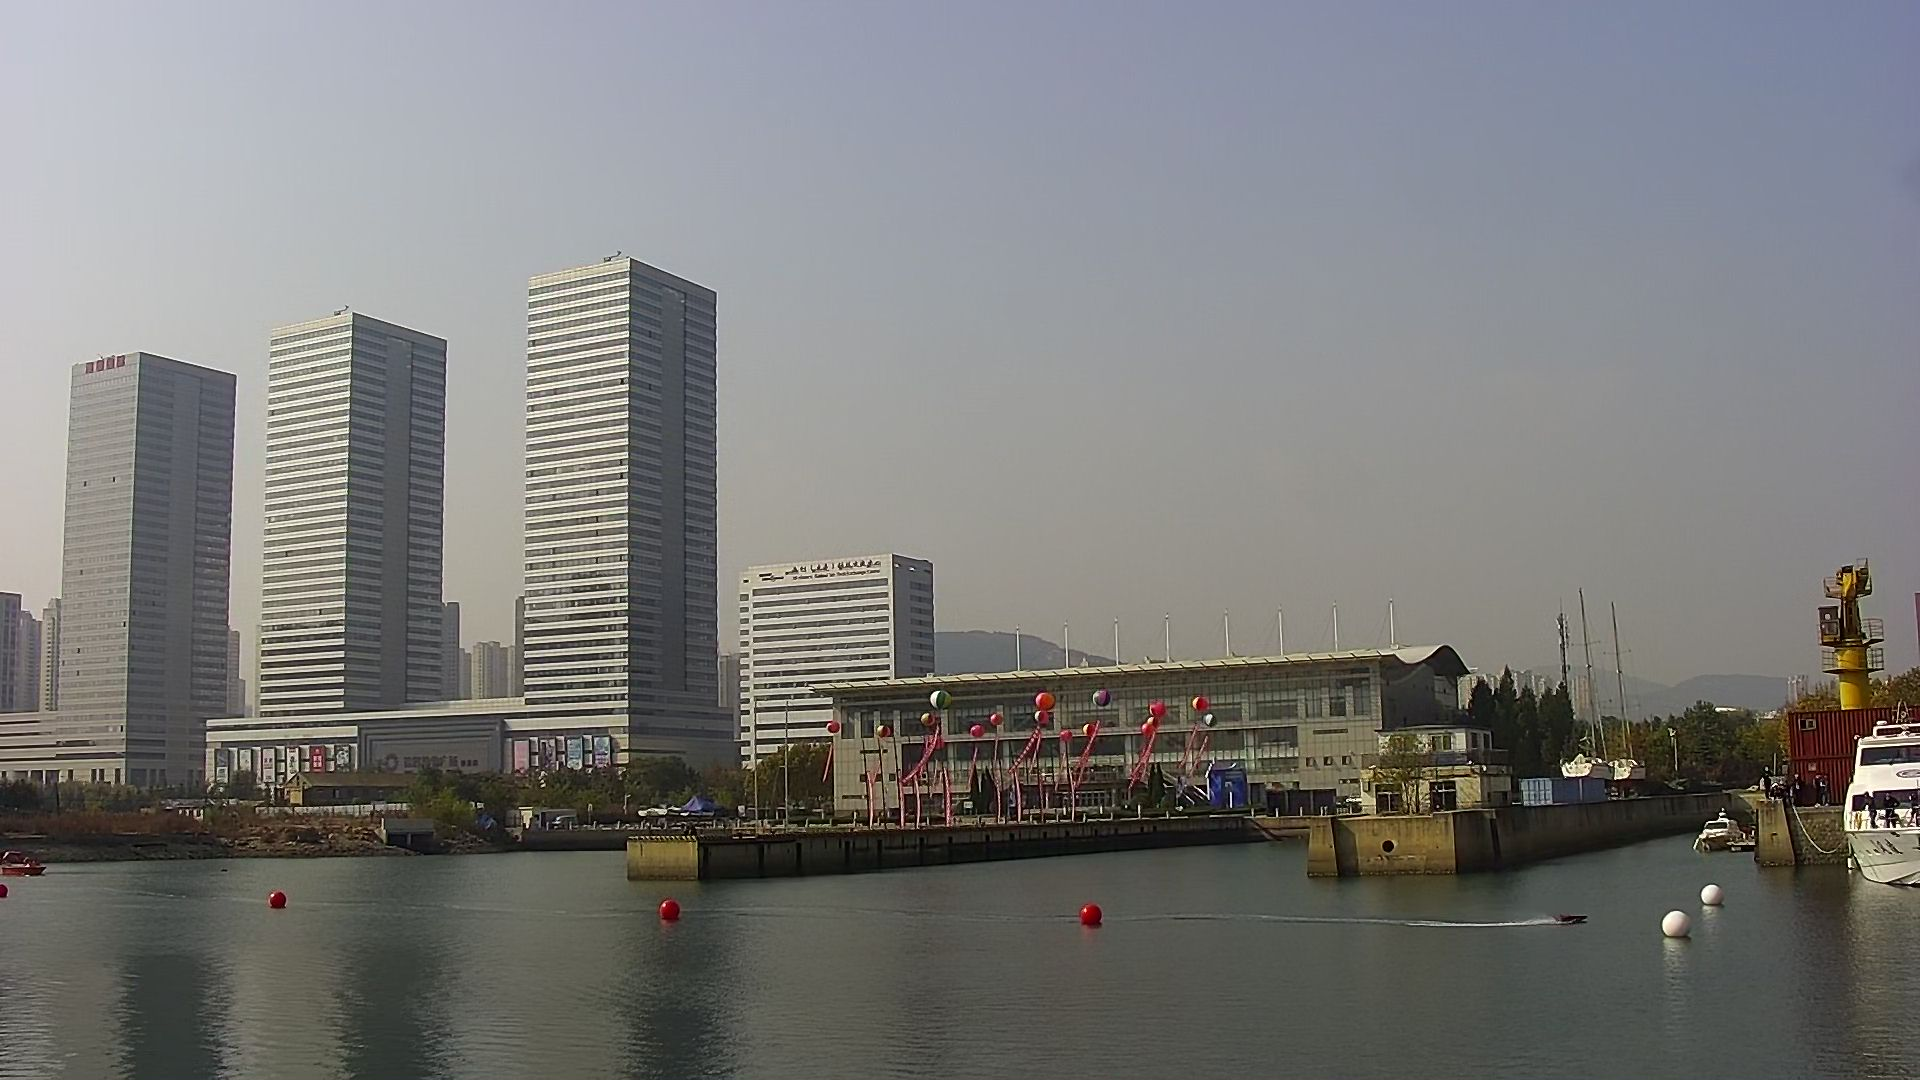ball: (1659, 910, 1693, 942), (657, 895, 683, 927), (1077, 902, 1105, 930), (1697, 885, 1726, 909), (266, 890, 291, 914)
boat: (1549, 913, 1592, 928)
ship: (1701, 810, 1741, 855)
